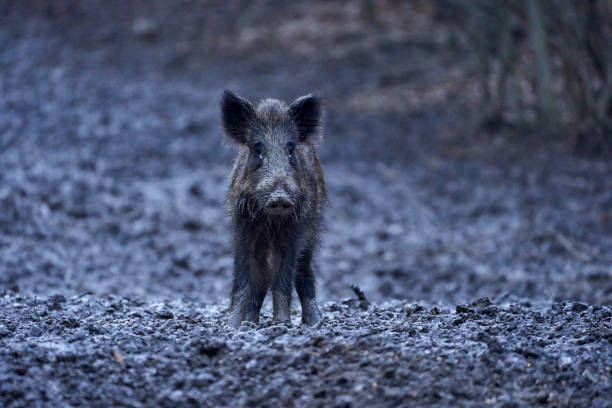pig: (200, 90, 334, 316)
